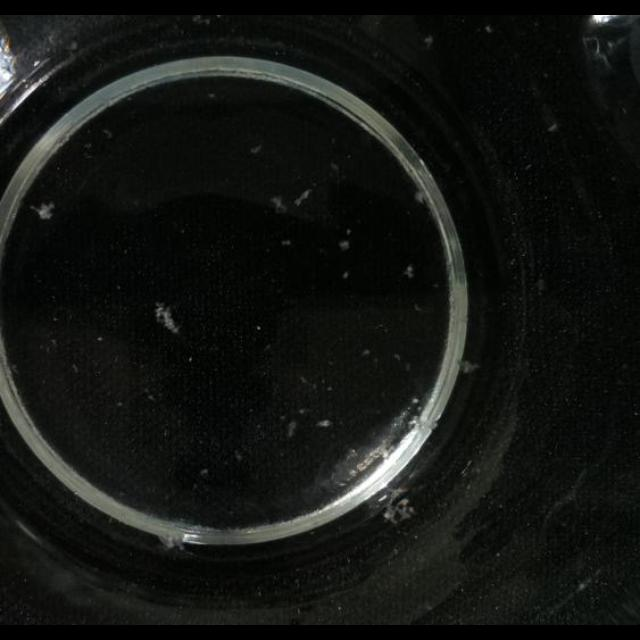Fibre: (381, 494, 415, 526), (154, 303, 182, 335), (34, 202, 56, 220), (294, 188, 312, 208), (270, 196, 288, 214), (415, 189, 429, 205), (337, 239, 349, 251), (248, 144, 262, 154)
microbeads: (461, 360, 481, 374), (402, 265, 413, 279), (318, 418, 332, 428), (546, 122, 558, 132)
